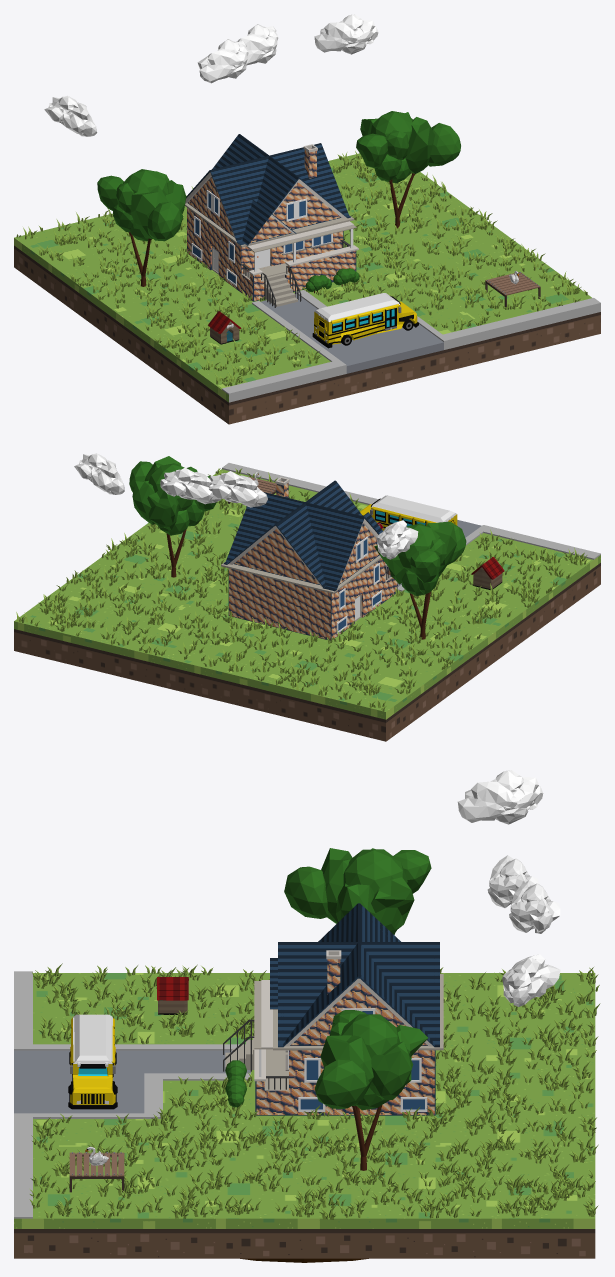
3 views of the same model, one above another, from view 1: azimuth 30°, elevation 25°; view 2: azimuth 150°, elevation 25°; view 3: azimuth 270°, elevation 25° (orthographic). The views are drawn at different scales.
Visible parts, largest first — view 1: Cube.006, Cube.430, Circle.012_Grass_0.192, Cube.007, tree, tree.001, VEHICLES_SCHOOL_BUS, Cube.009, OBJRANDOM_DOGHOUSE; view 2: Cube.006, Cube.430, Circle.012_Grass_0.192, Cube.007, tree.001, tree, VEHICLES_SCHOOL_BUS, OBJRANDOM_DOGHOUSE; view 3: Cube.006, Circle.012_Grass_0.192, Cube.430, tree, Cube.007, tree.001, VEHICLES_SCHOOL_BUS, Cube.009, OBJRANDOM_DOGHOUSE.
Part boxes in pixels (x1,y1,x2,y2): Cube.006: (14, 153, 600, 424); Cube.430: (185, 134, 358, 307); Circle.012_Grass_0.192: (16, 151, 587, 386); Cube.007: (44, 14, 378, 136); tree: (356, 111, 460, 228); tree.001: (97, 169, 186, 286); VEHICLES_SCHOOL_BUS: (312, 293, 418, 348); Cube.009: (485, 272, 540, 306); OBJRANDOM_DOGHOUSE: (208, 311, 241, 344); Cube.006: (14, 463, 600, 741); Cube.430: (221, 477, 397, 640); Circle.012_Grass_0.192: (16, 468, 587, 711); Cube.007: (74, 453, 418, 559); tree.001: (374, 521, 466, 639); tree: (129, 456, 216, 577); VEHICLES_SCHOOL_BUS: (360, 495, 457, 530); OBJRANDOM_DOGHOUSE: (471, 557, 504, 589); Cube.006: (14, 971, 595, 1258); Circle.012_Grass_0.192: (29, 963, 600, 1219); Cube.430: (223, 903, 443, 1115); tree: (314, 1010, 427, 1170); Cube.007: (457, 770, 560, 1006); tree.001: (284, 848, 431, 934); VEHICLES_SCHOOL_BUS: (68, 1014, 117, 1109); Cube.009: (69, 1152, 124, 1192); OBJRANDOM_DOGHOUSE: (156, 977, 188, 1014).
Size of the model in its own units: 4071 by 2242 by 4040.
44 materials, 4 textured.
